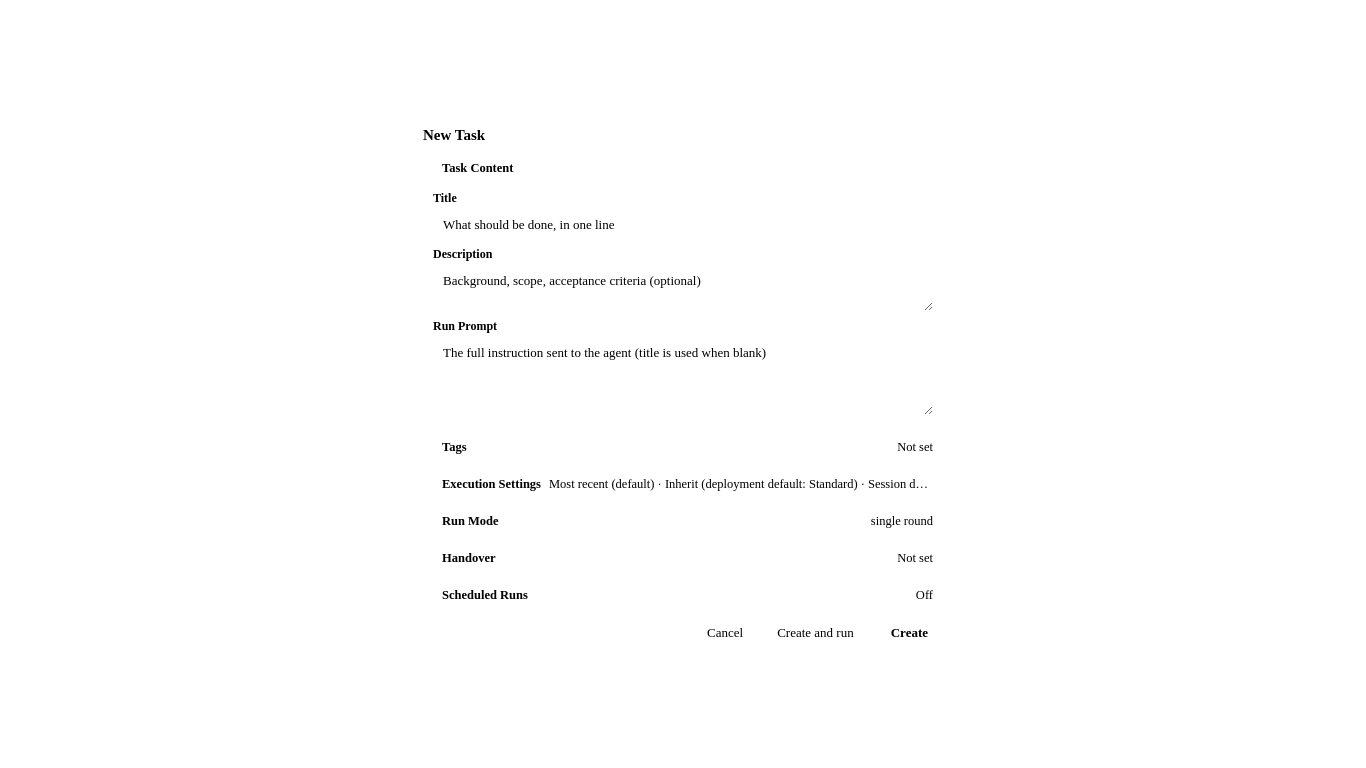
Scenario: create-task dialog regions › user leaving the zone at the Host default creates an unscheduled-zone rule
Click the button "Scheduled Runs Off".
click(485, 594)  # box [423,580,943,610]
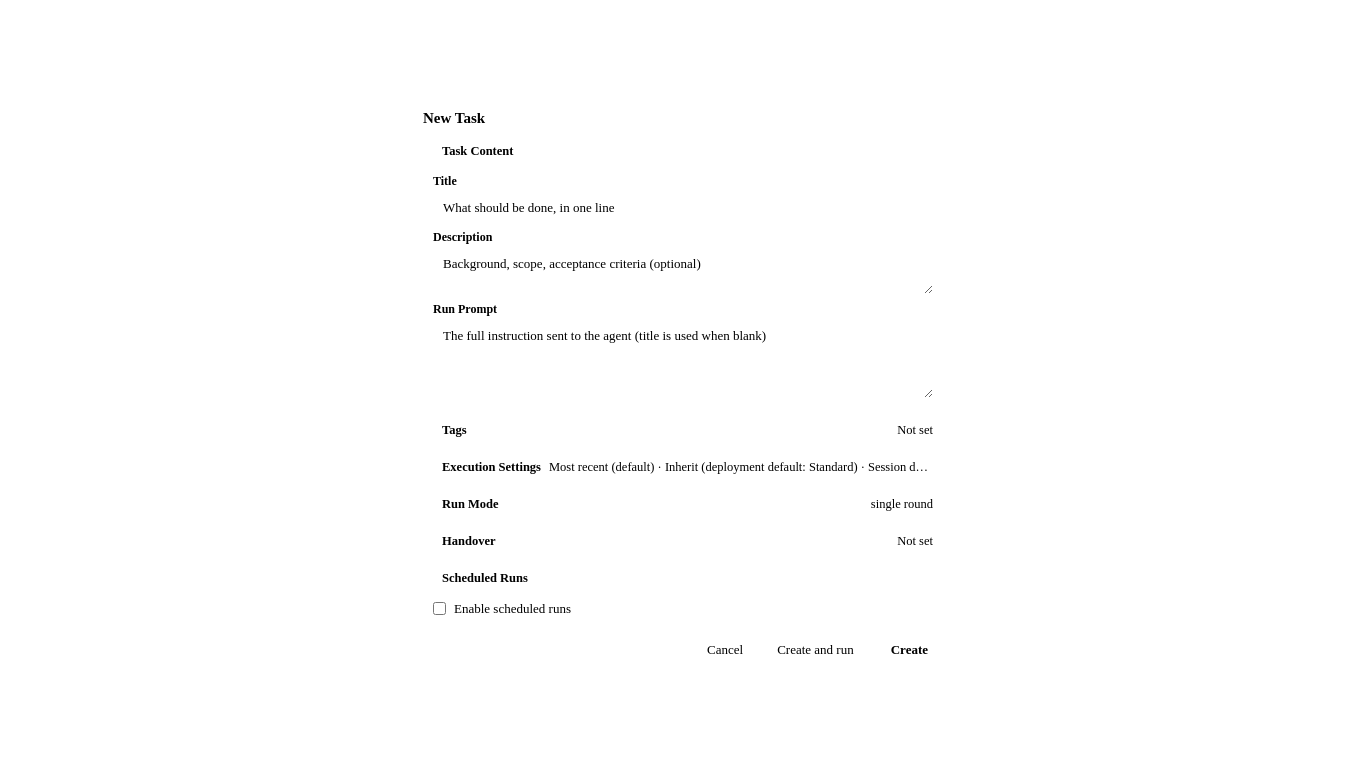
Click the checkbox labelled "Enable scheduled runs".
click(440, 608)  # box [433,602,446,615]
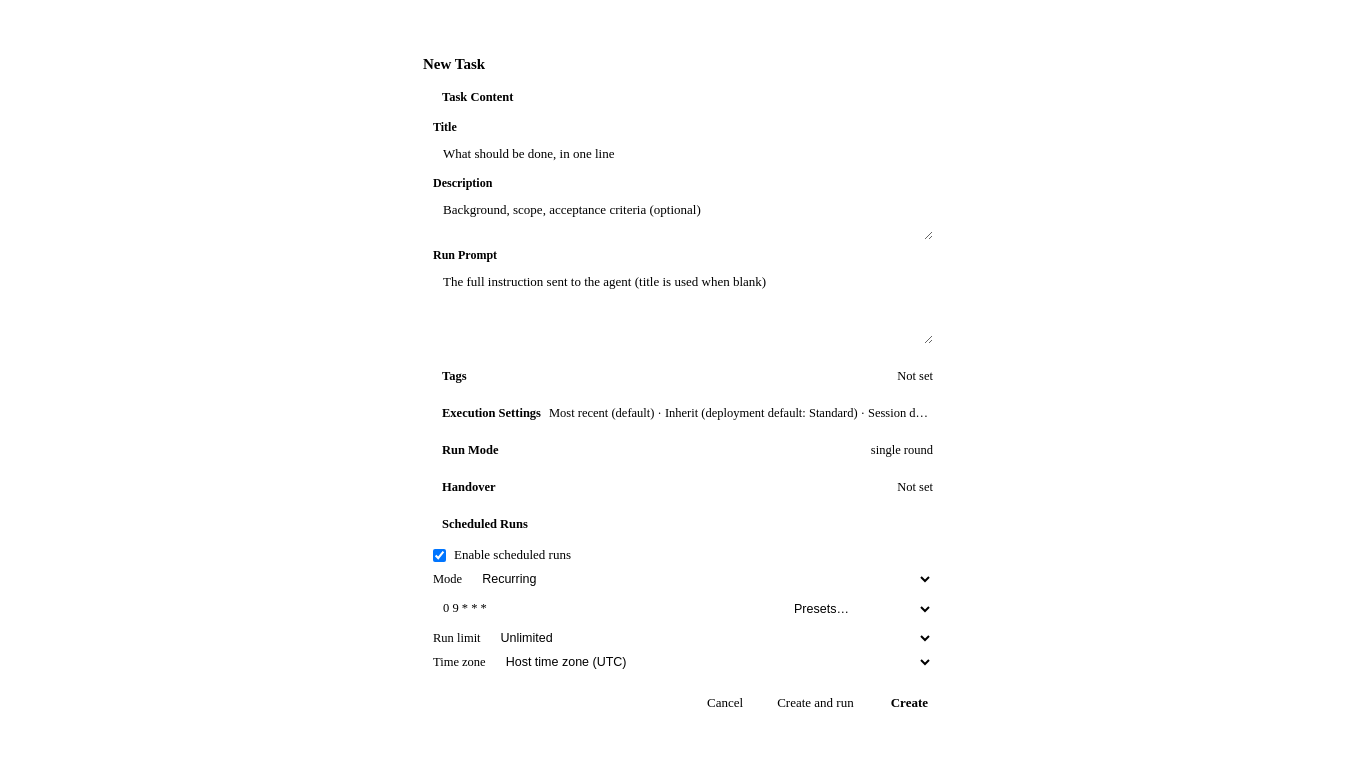
Check: the dropdown labelled "Time zone" shows "Host time zone (UTC)", box [494,654,933,670]
